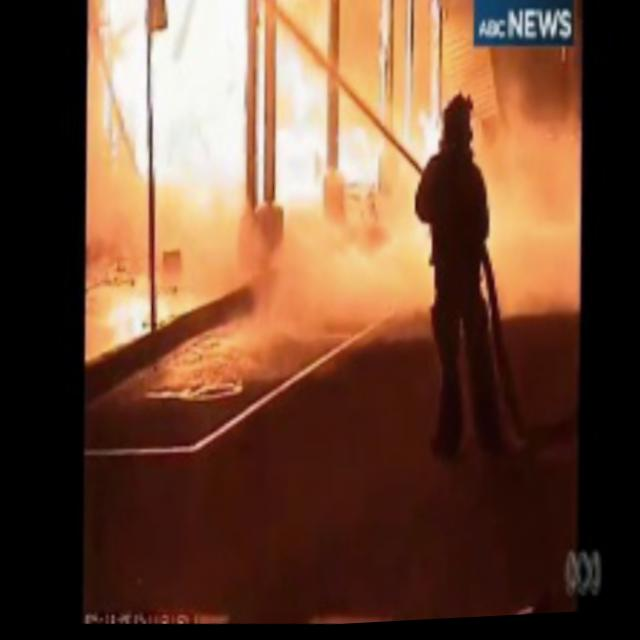fire: (79, 0, 256, 213), (264, 0, 343, 215)
smoke: (491, 88, 596, 321), (67, 195, 273, 311), (267, 231, 433, 347)
